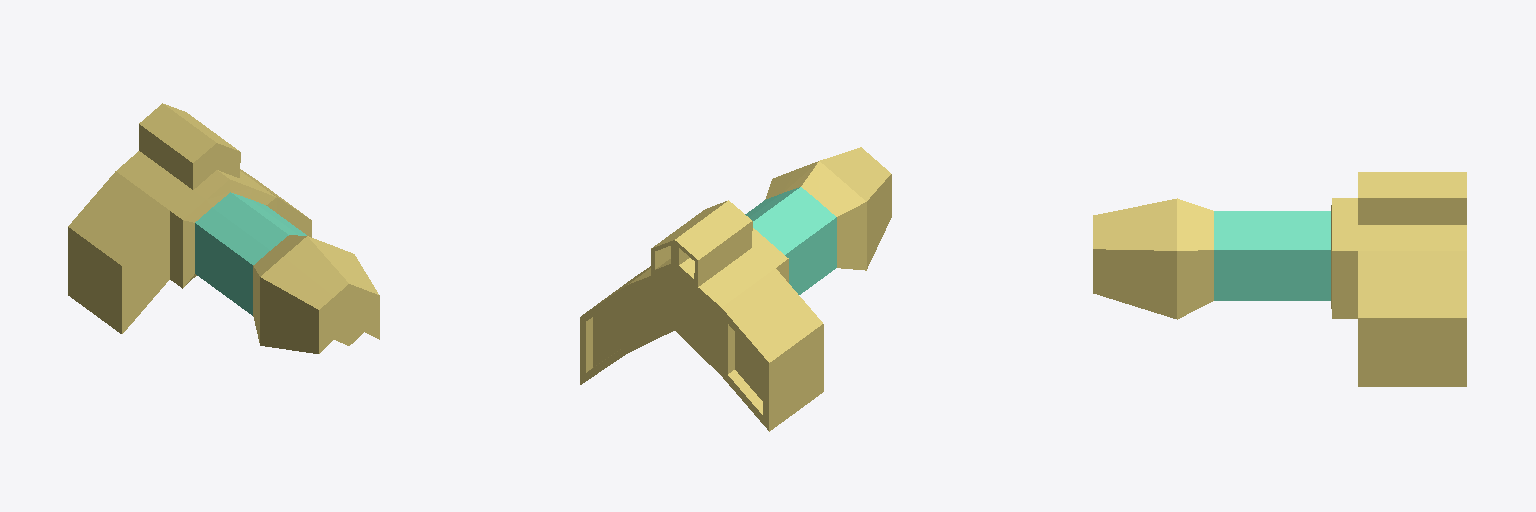
3 renders of one model, left to right at view 1: azimuth 30°, elevation 25°; view 2: azimuth 150°, elevation 25°; view 3: azimuth 270°, elevation 25°, orthographic.
Parts seen in each view (by area): view 1: Cube_Cube.001; view 2: Cube_Cube.001; view 3: Cube_Cube.001.
Part boxes in pixels (left/top/right/bottom): Cube_Cube.001: left=68, top=103, right=379, bottom=353; Cube_Cube.001: left=580, top=147, right=891, bottom=431; Cube_Cube.001: left=1093, top=172, right=1466, bottom=386.
Bounding box in the file's own units: 2.94 × 2.51 × 5.02.
Materials: 1 (1 with a texture image).